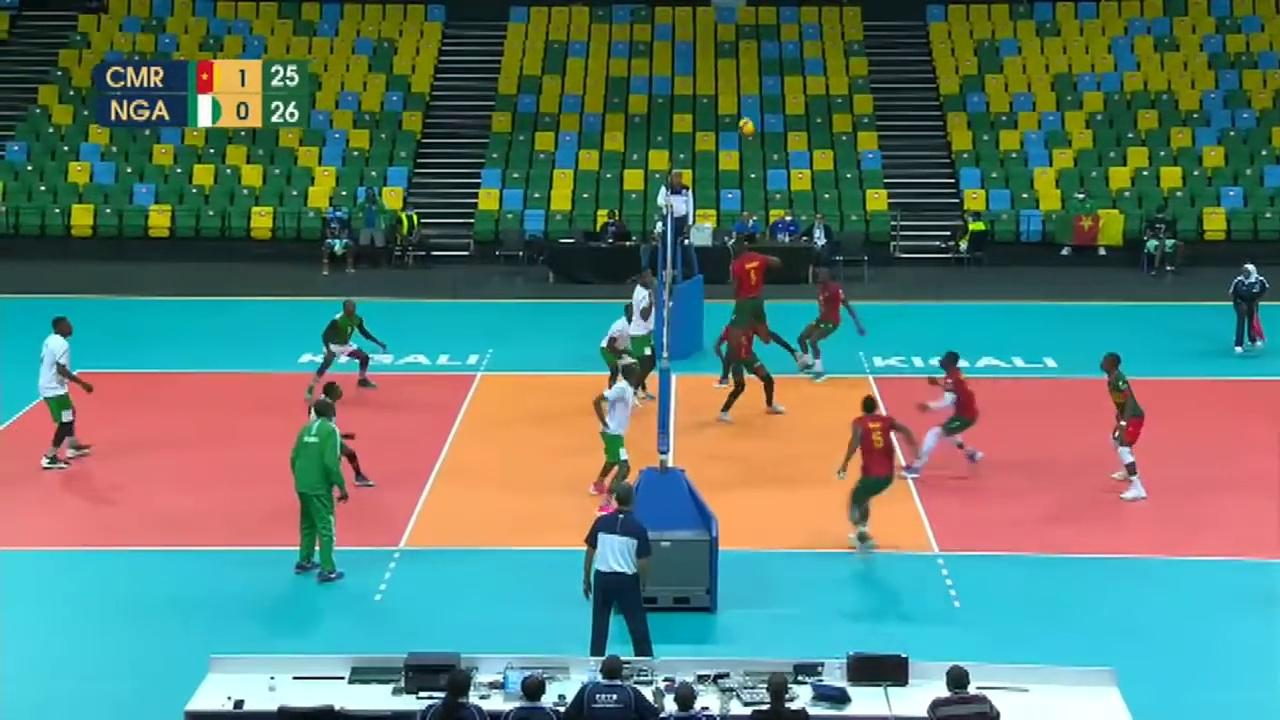player: (834, 393, 920, 551), (726, 234, 799, 376), (34, 314, 98, 470), (289, 381, 378, 489), (711, 308, 791, 426), (911, 354, 981, 476), (591, 363, 644, 505), (311, 300, 390, 392), (1097, 352, 1146, 496), (797, 267, 859, 373), (594, 301, 644, 397), (632, 265, 661, 400)
refree: (582, 484, 657, 658), (649, 165, 699, 274), (1229, 261, 1269, 355)
